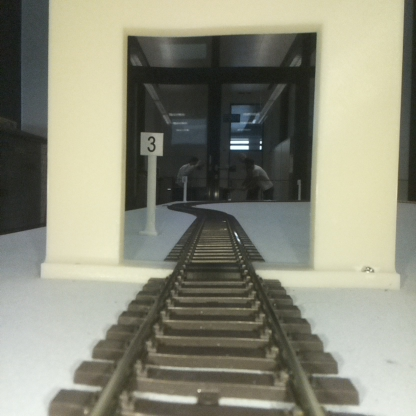white-info-3: (140, 132, 162, 231)
